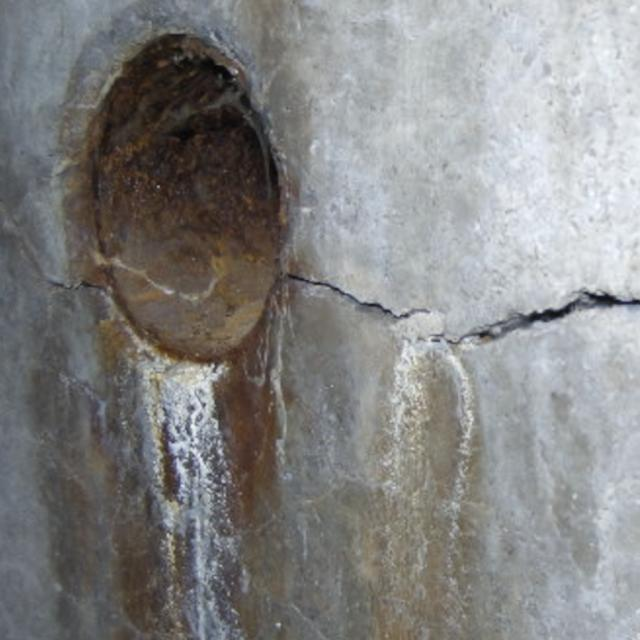D10: (86, 32, 289, 637)
